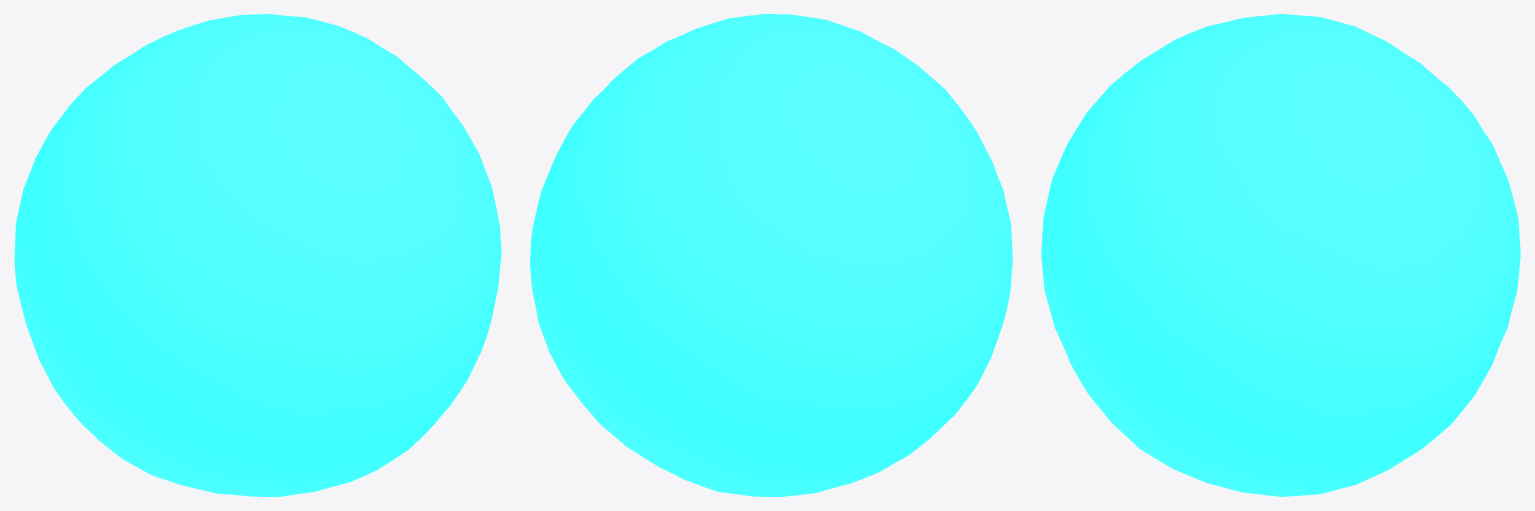
The model's file is portal-sphere-hub-help.fbx.
3 views of the same model, side by side, from view 1: azimuth 30°, elevation 25°; view 2: azimuth 150°, elevation 25°; view 3: azimuth 270°, elevation 25° (orthographic).
Parts seen in each view (by area): view 1: Icosphere.001; view 2: Icosphere.001; view 3: Icosphere.001.
Boxes of the visible parts, x1=… form: Icosphere.001: x1=14, y1=14, x2=501, y2=496; Icosphere.001: x1=530, y1=14, x2=1012, y2=496; Icosphere.001: x1=1041, y1=14, x2=1520, y2=496.
Size of the model in its own units: 15.46 by 15.54 by 15.45.
